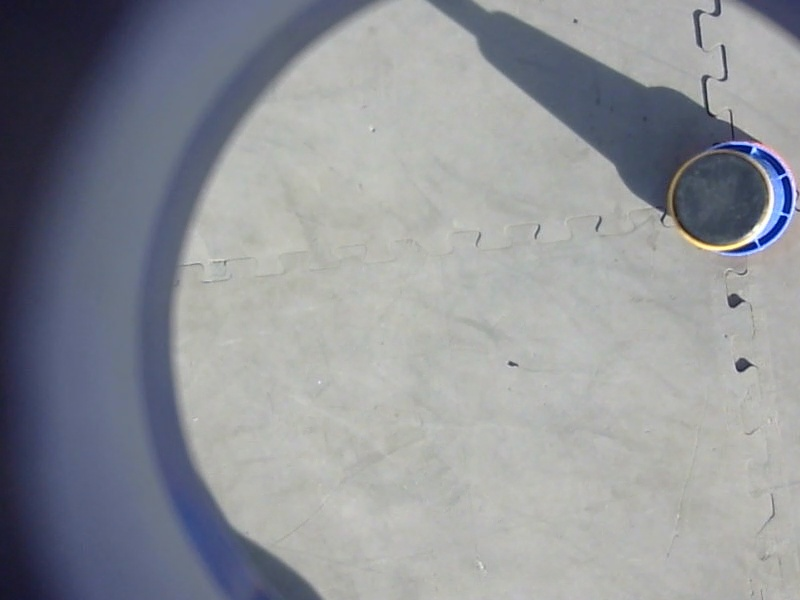tip: (660, 142, 782, 259)
